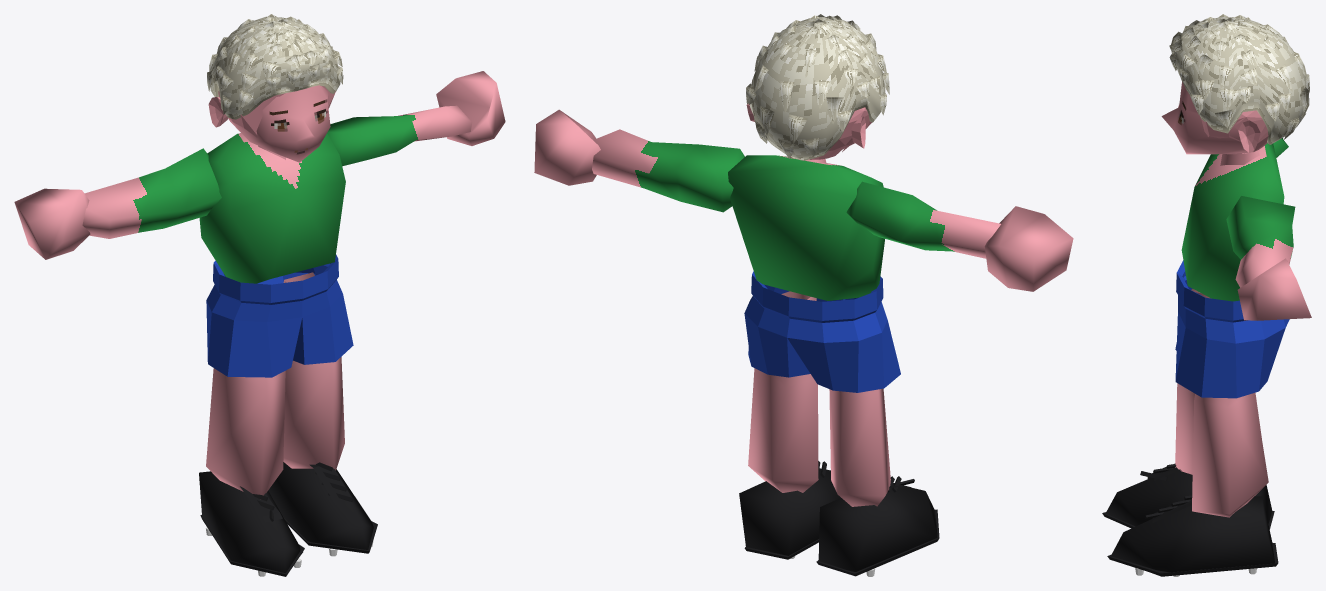
Rendered from 05-crespo-curto_loiro-pintado.glb.
3 views of the same model, side by side, from view 1: azimuth 30°, elevation 25°; view 2: azimuth 150°, elevation 25°; view 3: azimuth 270°, elevation 25° (orthographic). The views are drawn at different scales.
Parts seen in each view (by area): view 1: Camisa_Tronco, Bermuda, Cabelo, Perna.R, Braco.R, Perna.L, Chuteira.R, Chuteira.L, Braco.L, Cabeca, Mao.R, Mao.L (+3 smaller); view 2: Camisa_Tronco, Cabelo, Bermuda, Perna.L, Braco.L, Chuteira.R, Perna.R, Braco.R, Mao.R, Chuteira.L, Mao.L, Chuteira_Sola.R (+1 smaller); view 3: Cabelo, Bermuda, Chuteira.L, Camisa_Tronco, Perna.L, Braco.L, Mao.L, Chuteira.R, Cabeca, Perna.R, Chuteira_Sola.L, Cranio (+4 smaller).
Part boxes in pixels (x1,y1,x2,y2): Camisa_Tronco: [199, 133, 345, 283]; Bermuda: [206, 254, 353, 377]; Cabelo: [207, 14, 343, 119]; Perna.R: [206, 368, 285, 499]; Braco.R: [82, 148, 221, 238]; Perna.L: [283, 272, 344, 470]; Chuteira.R: [199, 471, 302, 572]; Chuteira.L: [268, 462, 373, 549]; Braco.L: [327, 105, 472, 166]; Cabeca: [233, 85, 330, 162]; Mao.R: [14, 188, 90, 259]; Mao.L: [436, 71, 505, 145]; Camisa_Tronco: [728, 155, 884, 300]; Cabelo: [746, 14, 889, 160]; Bermuda: [744, 271, 900, 392]; Perna.L: [748, 291, 818, 492]; Braco.L: [592, 129, 744, 212]; Chuteira.R: [818, 483, 937, 571]; Perna.R: [829, 388, 890, 506]; Braco.R: [846, 181, 1000, 258]; Mao.R: [984, 206, 1073, 291]; Chuteira.L: [739, 468, 840, 555]; Mao.L: [534, 109, 600, 185]; Chuteira_Sola.R: [816, 509, 939, 576]; Cabelo: [1169, 14, 1309, 144]; Bermuda: [1175, 260, 1289, 398]; Chuteira.L: [1111, 496, 1275, 576]; Camisa_Tronco: [1181, 143, 1284, 301]; Perna.L: [1192, 393, 1268, 517]; Braco.L: [1226, 196, 1295, 287]; Mao.L: [1237, 258, 1311, 320]; Chuteira.R: [1105, 467, 1272, 526]; Cabeca: [1161, 82, 1253, 154]; Perna.R: [1175, 289, 1261, 474]; Chuteira_Sola.L: [1107, 542, 1278, 576]; Cranio: [1201, 110, 1268, 154].
Size of the model in its own units: 0.4523 by 0.4504 by 0.1617.
3 materials, 3 textured.
